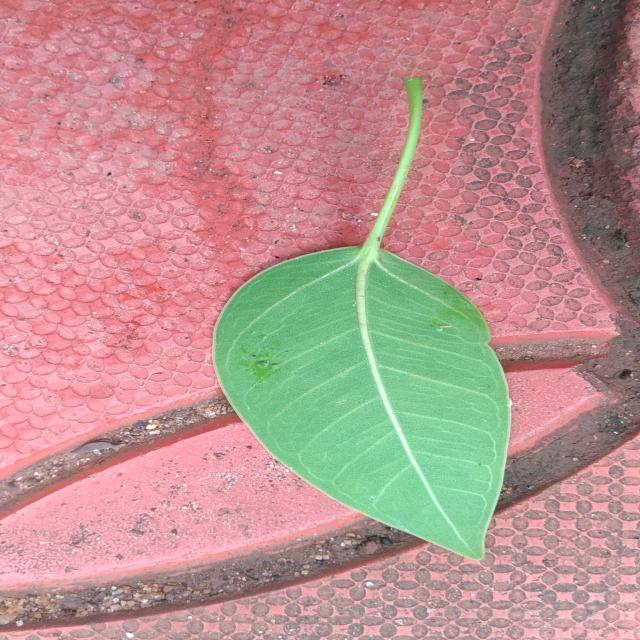camphor: (216, 78, 511, 559)
